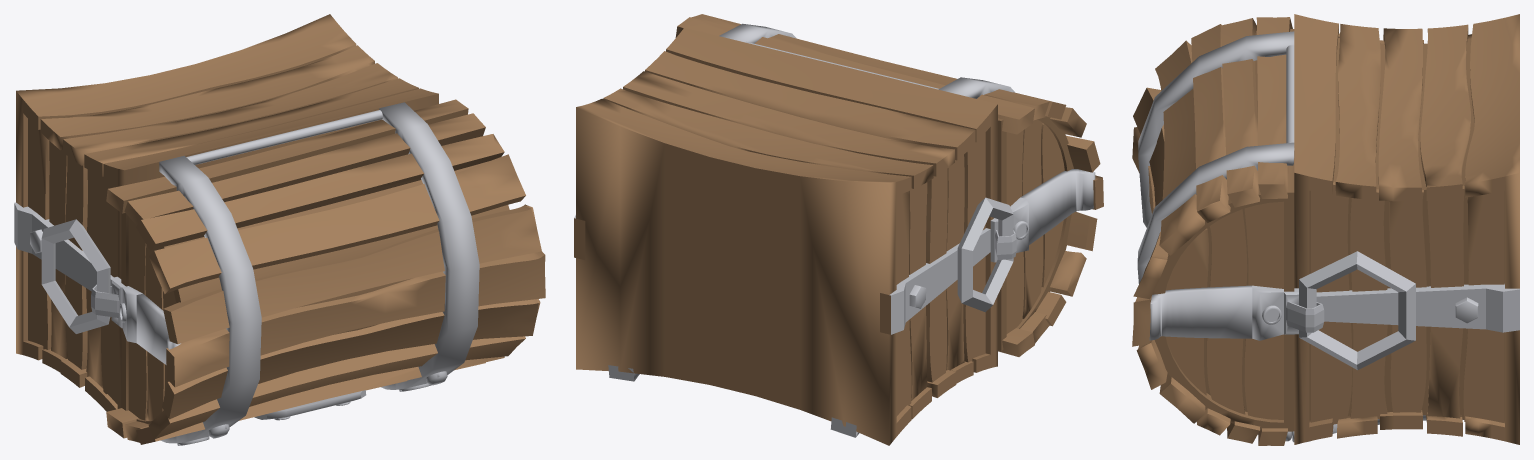
The model's file is chest.glb.
3 renders of one model, left to right at view 1: azimuth 30°, elevation 25°; view 2: azimuth 150°, elevation 25°; view 3: azimuth 270°, elevation 25°, orthographic. The views are drawn at different scales.
Parts seen in each view (by area): view 1: chest_chest_v13; view 2: chest_chest_v13; view 3: chest_chest_v13.
Part boxes in pixels (<box>): chest_chest_v13: <box>14,14,545,445</box>; chest_chest_v13: <box>574,14,1103,445</box>; chest_chest_v13: <box>1132,14,1519,445</box>.
Bounding box in the file's own units: 1.2 × 0.8458 × 1.04.
